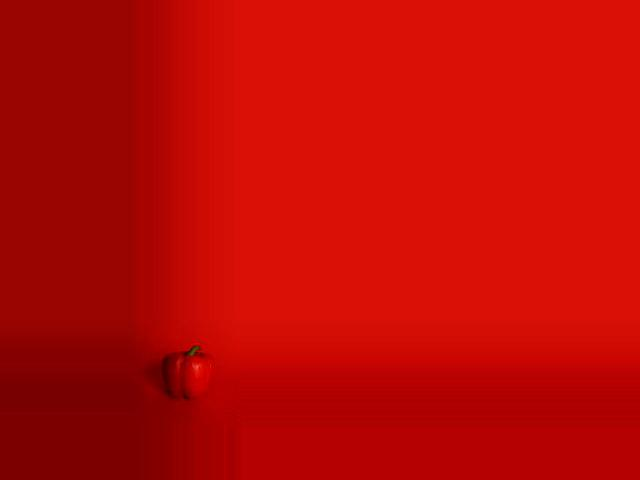bell_pepper: (160, 344, 212, 403)
